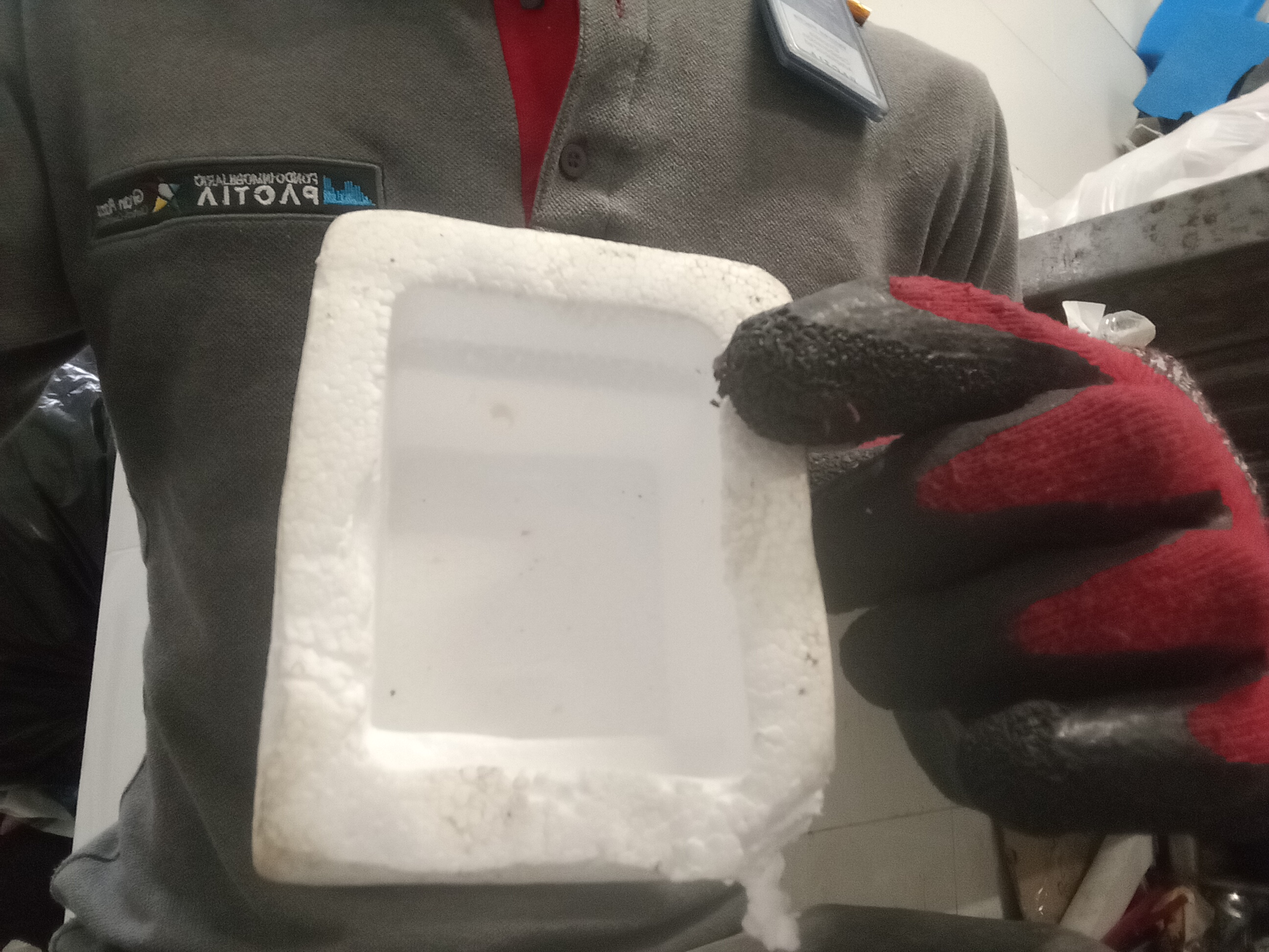Ordinario: (250, 210, 839, 888)
